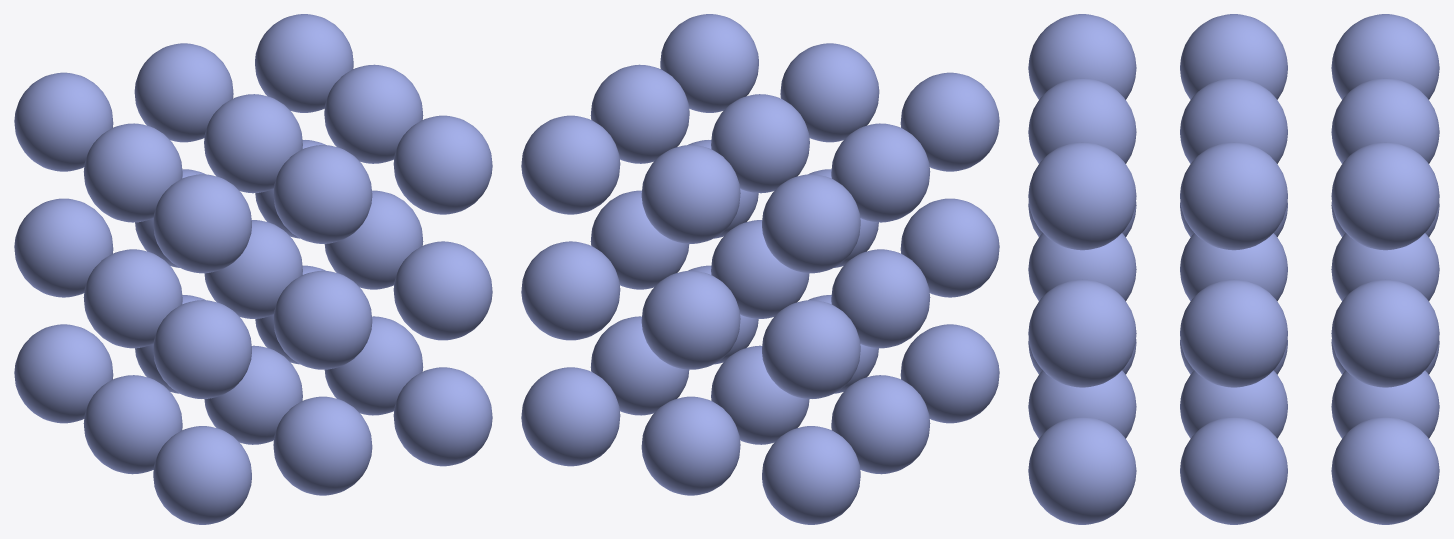
File: multilight.dae
3 renders of one model, left to right at view 1: azimuth 30°, elevation 25°; view 2: azimuth 150°, elevation 25°; view 3: azimuth 270°, elevation 25°, orthographic. The views are drawn at different scales.
Visible parts, largest first — view 1: Sphere; view 2: Sphere; view 3: Sphere.
Boxes of the visible parts, left/top/right/bottom form: Sphere: left=14, top=14, right=492, bottom=524; Sphere: left=521, top=14, right=999, bottom=524; Sphere: left=1028, top=14, right=1439, bottom=524.
Size of what is drawn, in the model's own units: 7.6 by 7.6 by 7.6.
